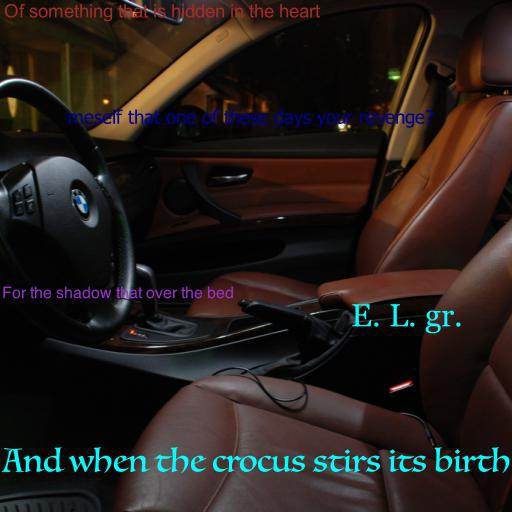Arial: (4, 3, 320, 22)
Georgia: (351, 304, 463, 334)
Luminari: (3, 447, 511, 474)
SignPainter: (2, 286, 234, 299)
Tahoma: (68, 109, 434, 128)
